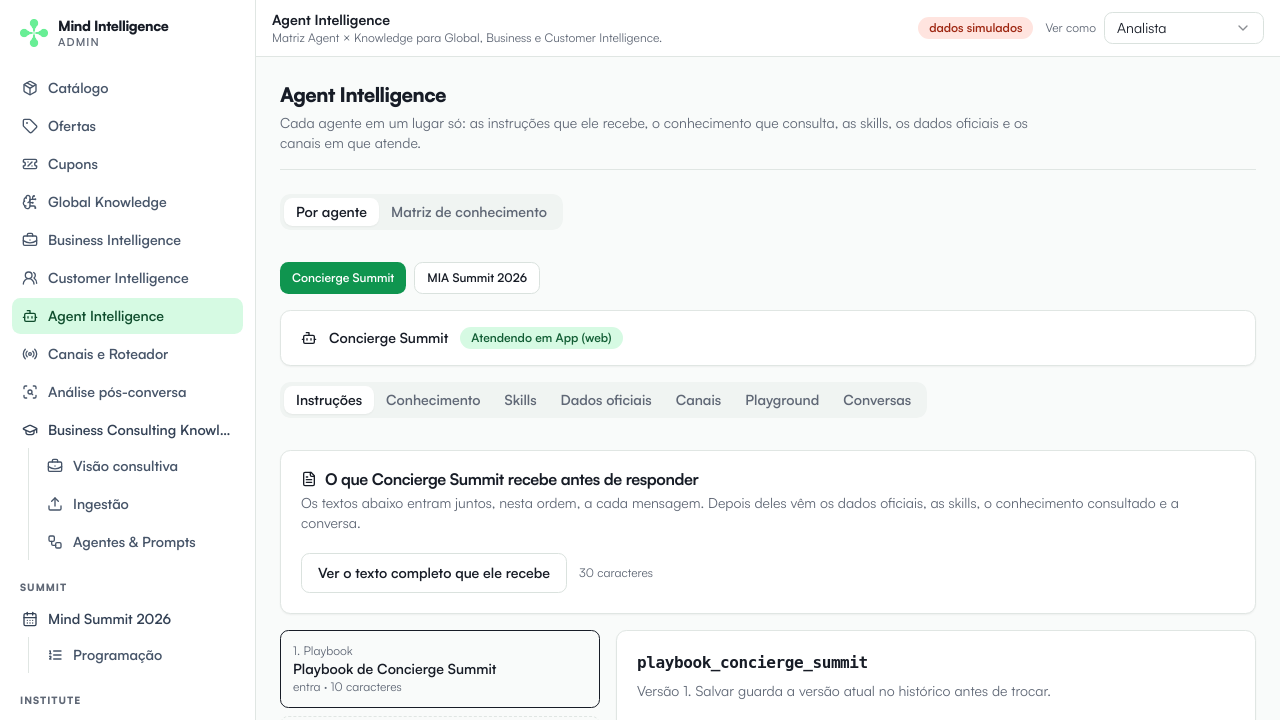
Test: gerar embeddings do Summit › analista não gera embeddings
This screenshot has width=1280, height=720.
Click the tab "Conhecimento" at [433, 400], box [374, 386, 493, 414]
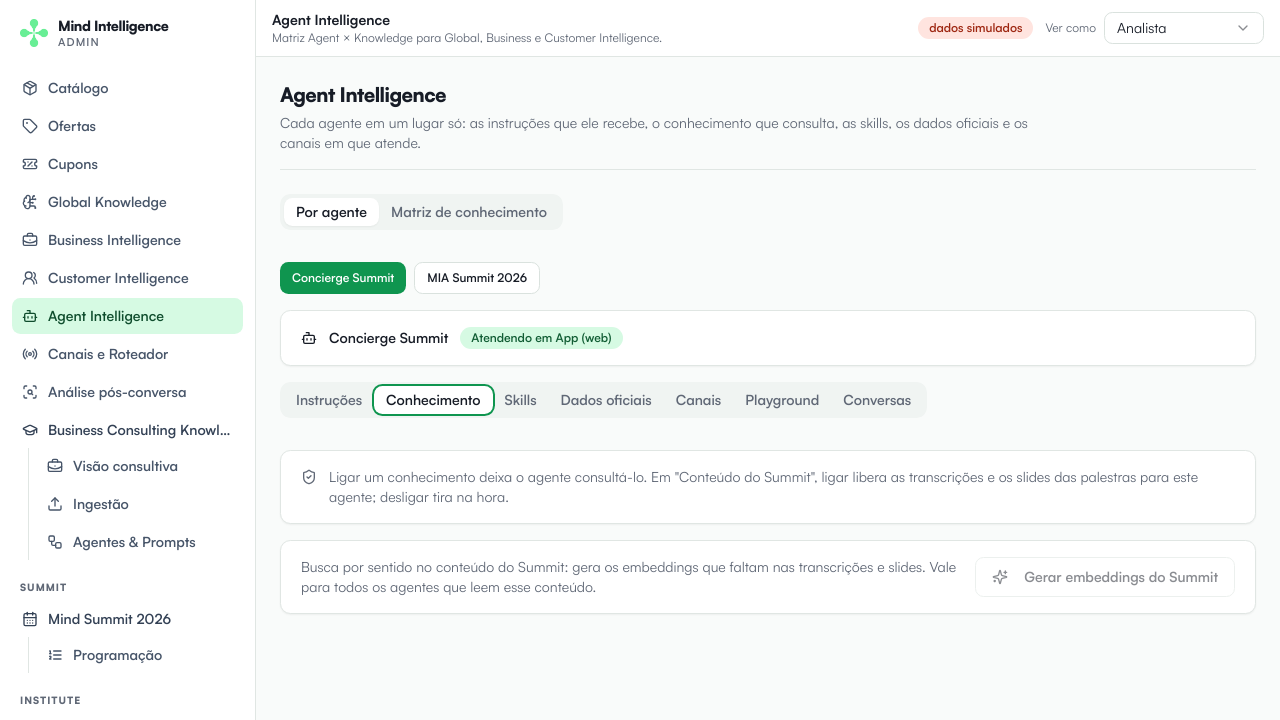
Check: the button "Gerar embeddings do Summit" is disabled, box [975, 557, 1235, 597]
